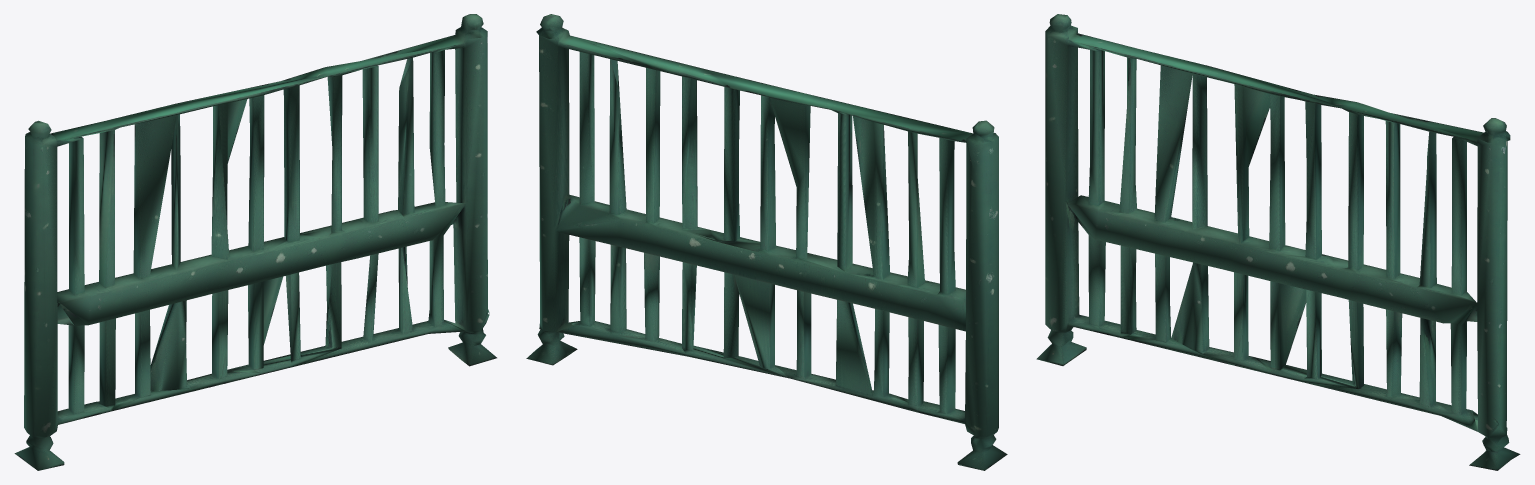
The model's file is prop3d-railing.glb.
3 renders of one model, left to right at view 1: azimuth 30°, elevation 25°; view 2: azimuth 150°, elevation 25°; view 3: azimuth 330°, elevation 25°, orthographic.
Bounding box in the file's own units: 2 × 1.41 × 0.1795.
1 material, 1 textured.
